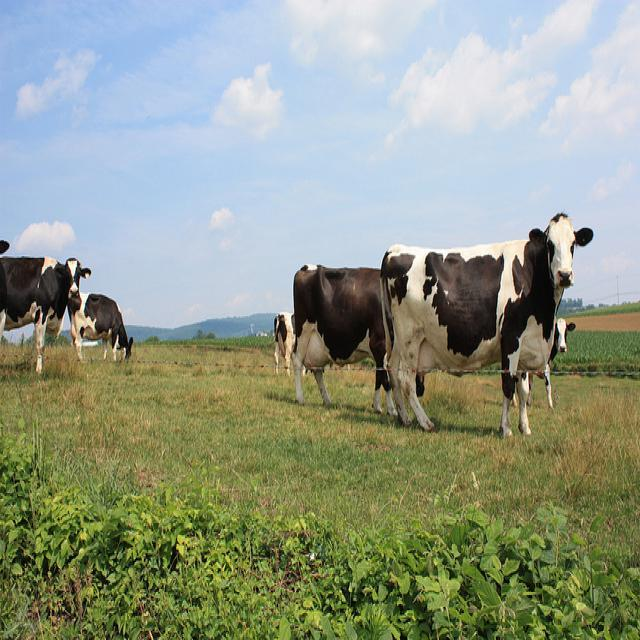cow: (379, 213, 591, 433), (290, 261, 394, 417), (0, 256, 92, 375), (67, 291, 133, 363), (271, 313, 292, 382), (547, 316, 575, 363)
